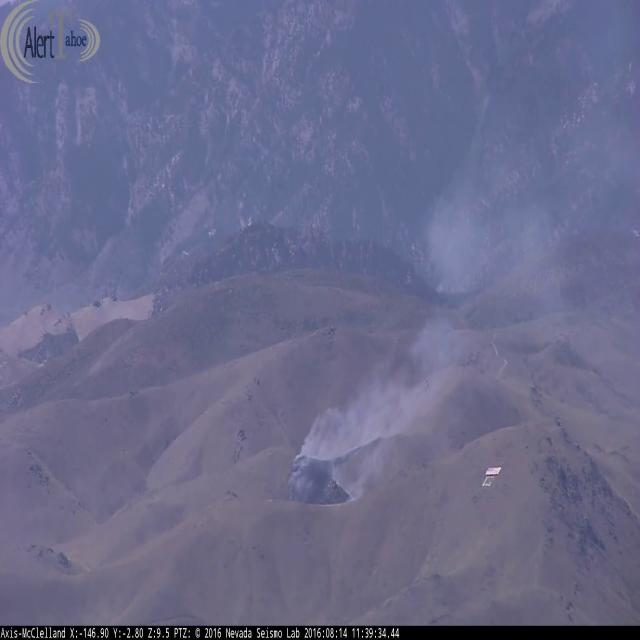smoke: (287, 116, 640, 496)
